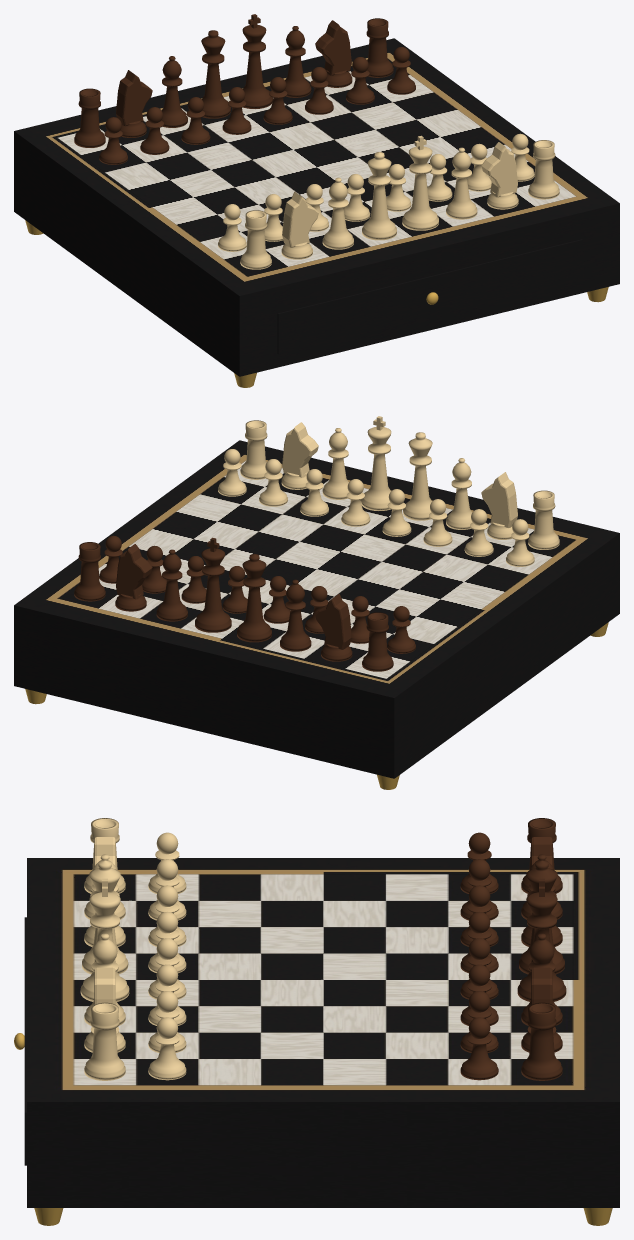
File: philidor-3d-olivier-laque-38.glb
3 views of the same model, one above another, from view 1: azimuth 30°, elevation 25°; view 2: azimuth 150°, elevation 25°; view 3: azimuth 270°, elevation 25° (orthographic). The views are drawn at different scales.
Visible parts, largest first — view 1: olivier-laque-38; view 2: olivier-laque-38; view 3: olivier-laque-38.
Boxes of the visible parts, <box> form: olivier-laque-38: <box>14,14,619,387</box>; olivier-laque-38: <box>14,416,619,789</box>; olivier-laque-38: <box>14,818,619,1225</box>.
Size of what is drawn, in the model's own units: 0.37 by 0.173 by 0.3883.
6 materials, 3 textured.
